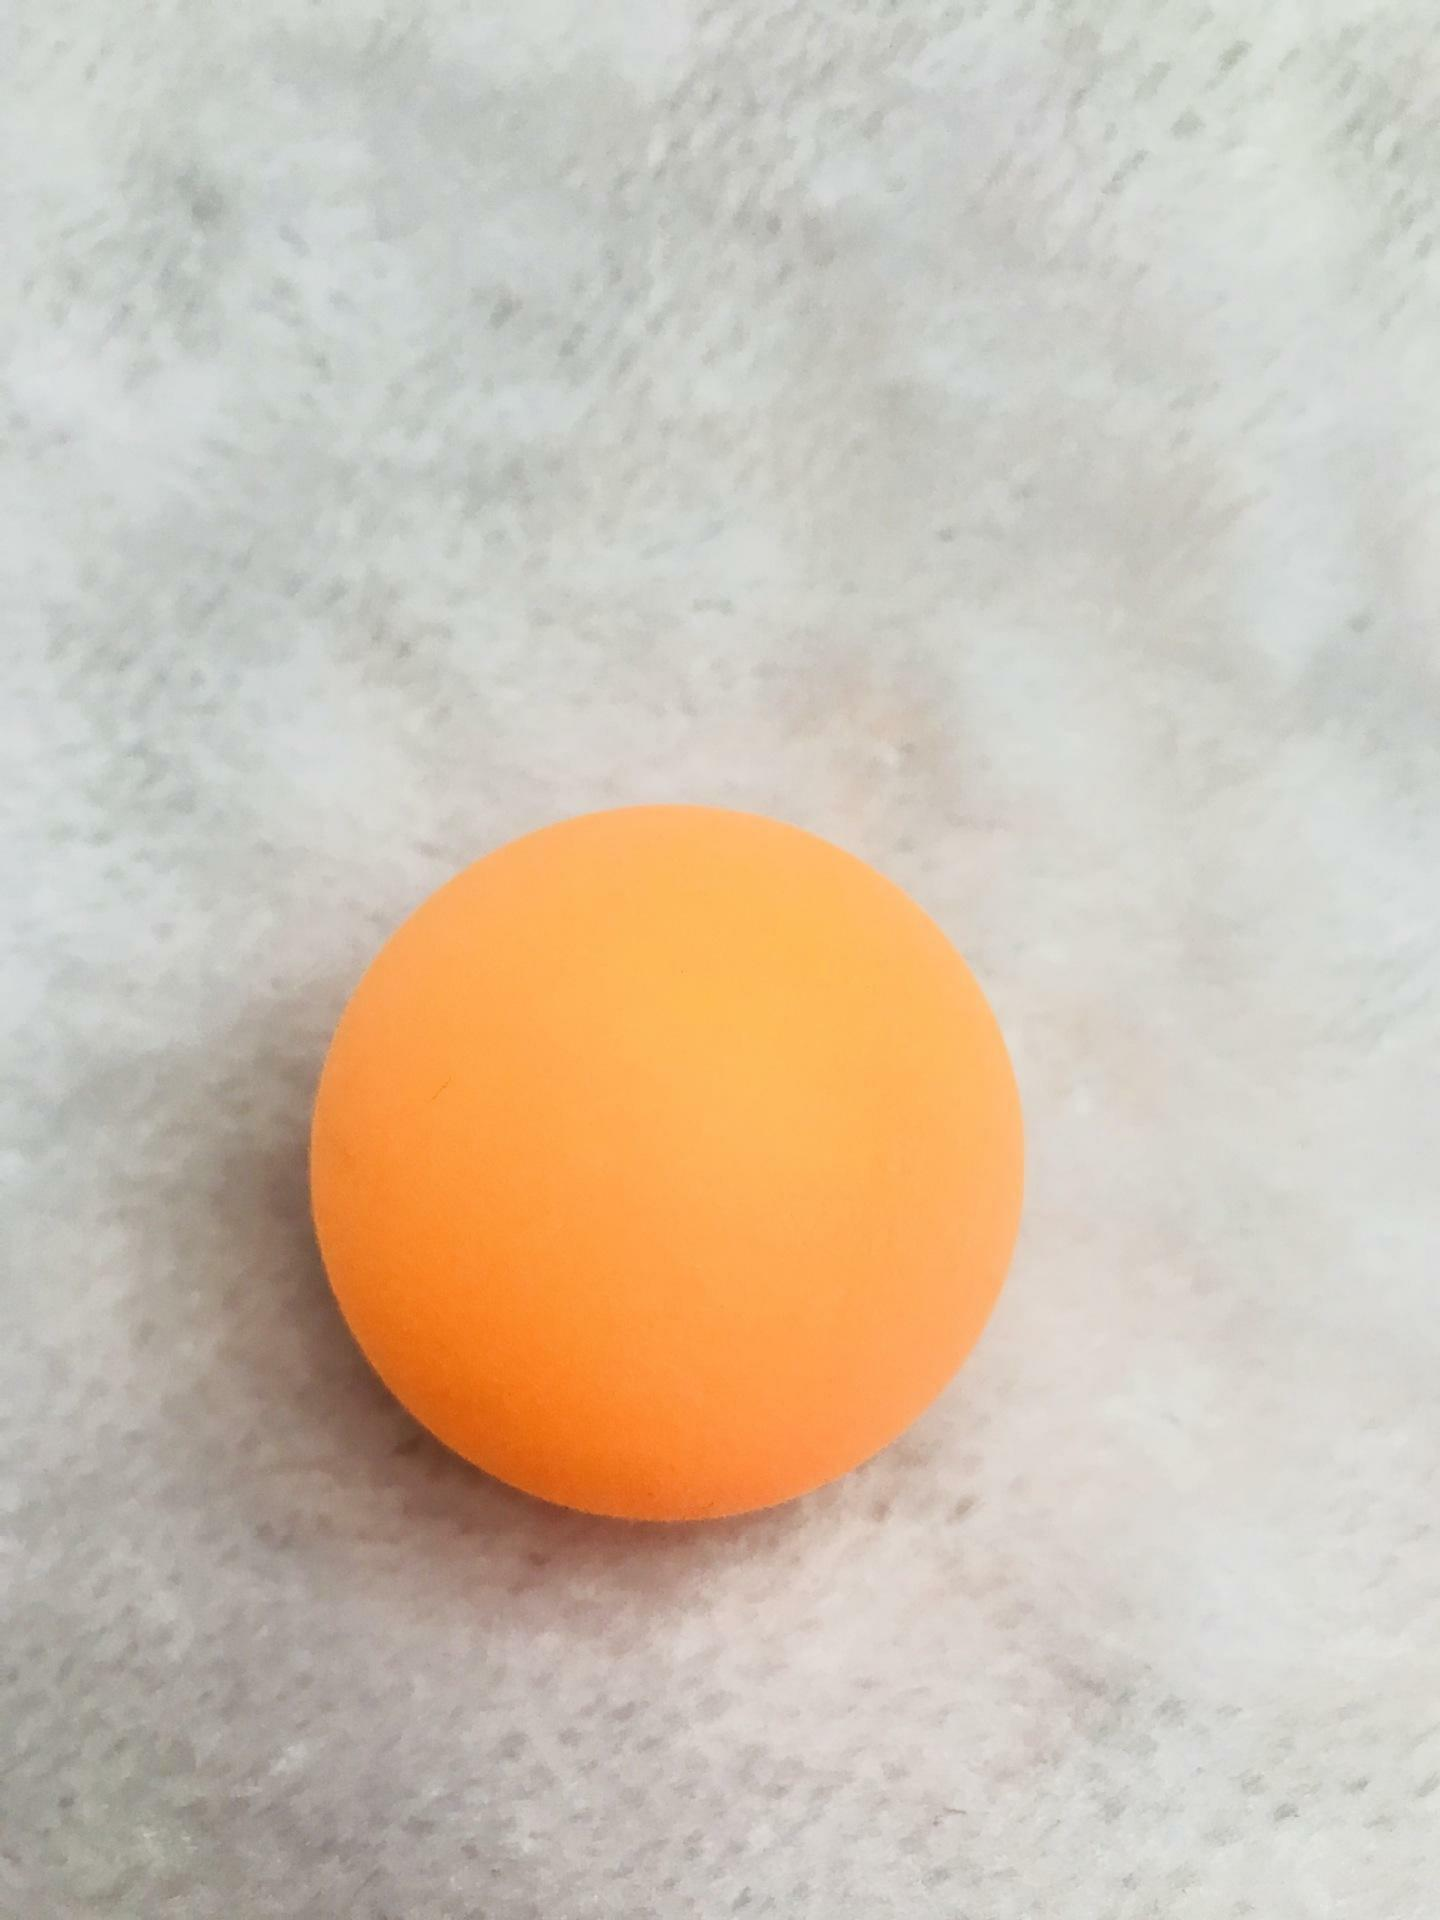ball: (289, 795, 1035, 1531)
